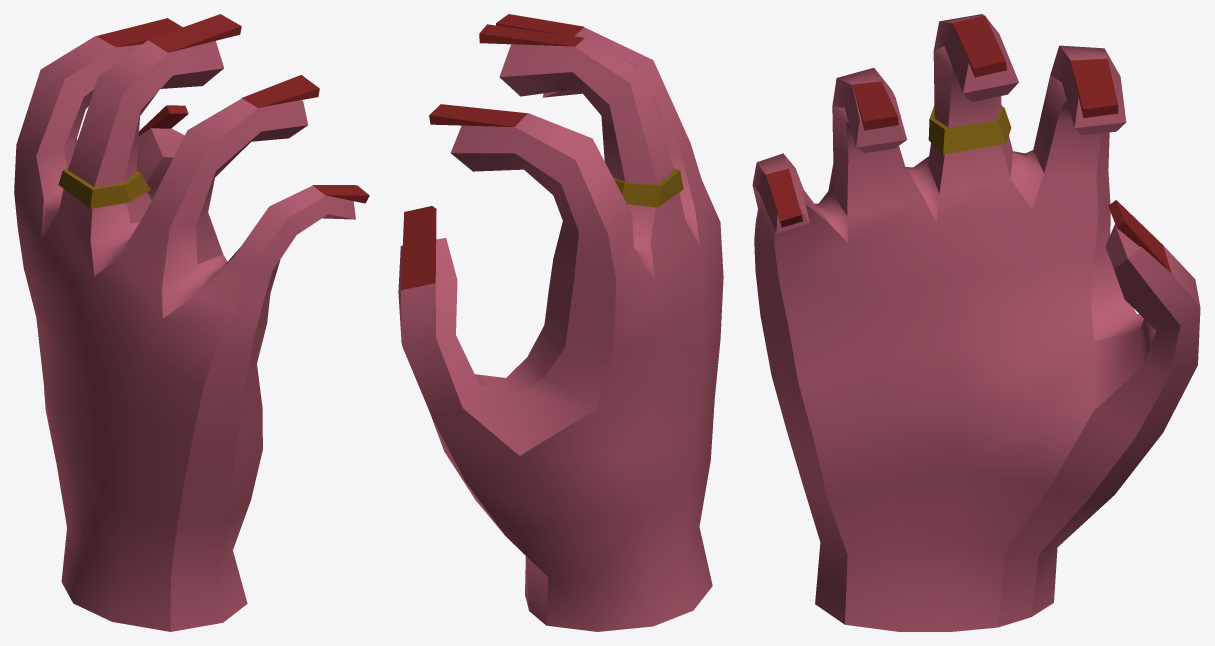
File: hand_closed_R.fbx
The picture shows the model from 3 angles, left to right: view 1: azimuth 30°, elevation 25°; view 2: azimuth 150°, elevation 25°; view 3: azimuth 270°, elevation 25°; orthographic projection. The views are drawn at different scales.
Visible parts, largest first — view 1: Hand_closed_R_mesh; view 2: Hand_closed_R_mesh; view 3: Hand_closed_R_mesh.
Boxes of the visible parts, bbox=[...] form: Hand_closed_R_mesh: bbox=[14, 14, 369, 631]; Hand_closed_R_mesh: bbox=[398, 14, 723, 631]; Hand_closed_R_mesh: bbox=[752, 14, 1200, 631].
Bounding box in the file's own units: 2.02 × 4.54 × 3.13.
